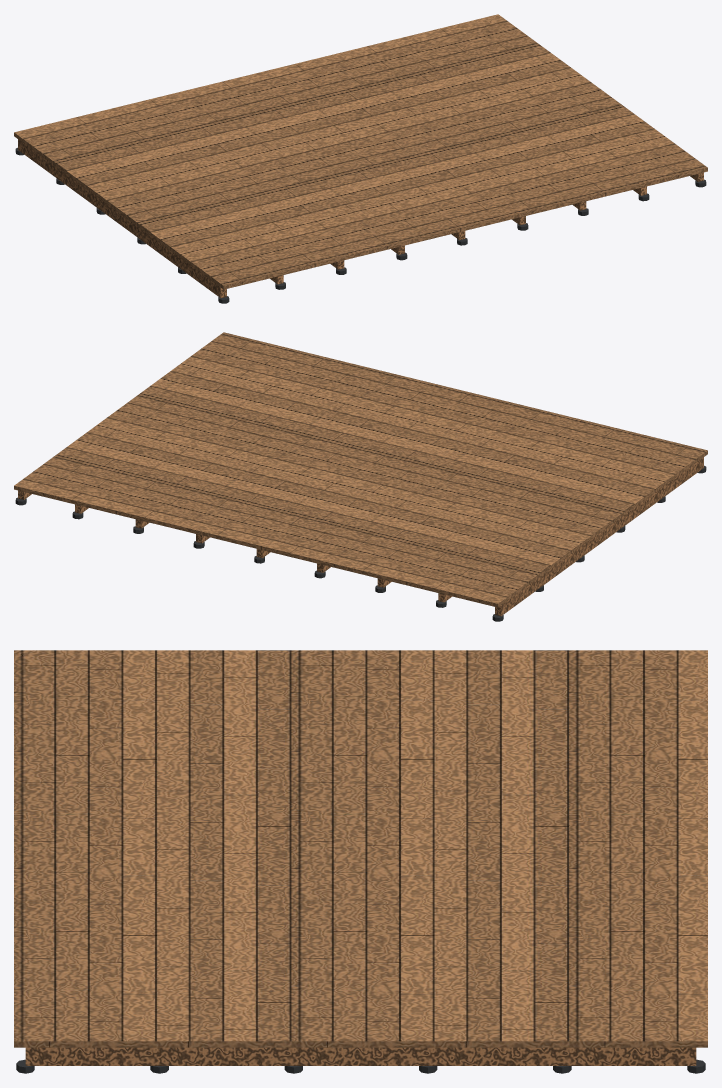
3 views of the same model, one above another, from view 1: azimuth 30°, elevation 25°; view 2: azimuth 150°, elevation 25°; view 3: azimuth 270°, elevation 25° (orthographic). The views are drawn at different scales.
Visible parts, largest first — view 1: surface.timber_deck (×3); view 2: surface.timber_deck (×3); view 3: surface.timber_deck (×3).
Boxes of the visible parts, x1,y1,x2,y2 form: surface.timber_deck (×3): (14, 14, 707, 303); surface.timber_deck (×3): (14, 332, 707, 621); surface.timber_deck (×3): (14, 650, 707, 1073).
Bounding box in the file's own units: 4.02 × 3 × 0.15.
Materials: 3 (2 with a texture image).
